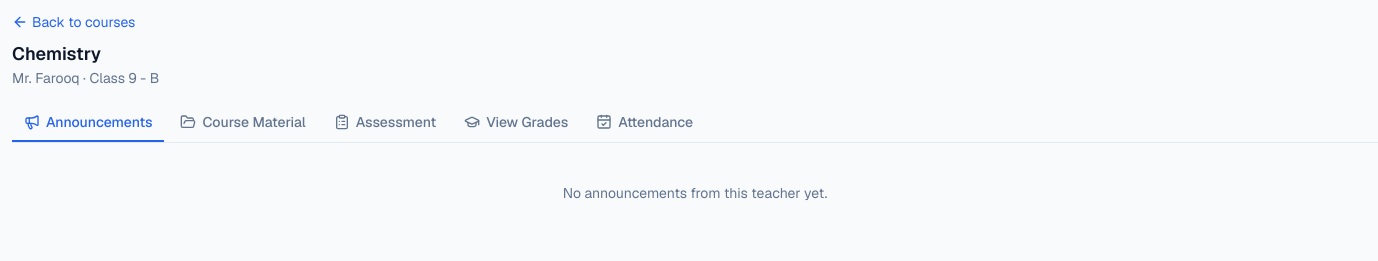
Scenario: PortalCourseDetailPage › switches to the Course Material tab and shows a download link
Click the button "Course Material": [243, 123] box [168,104,318,142]
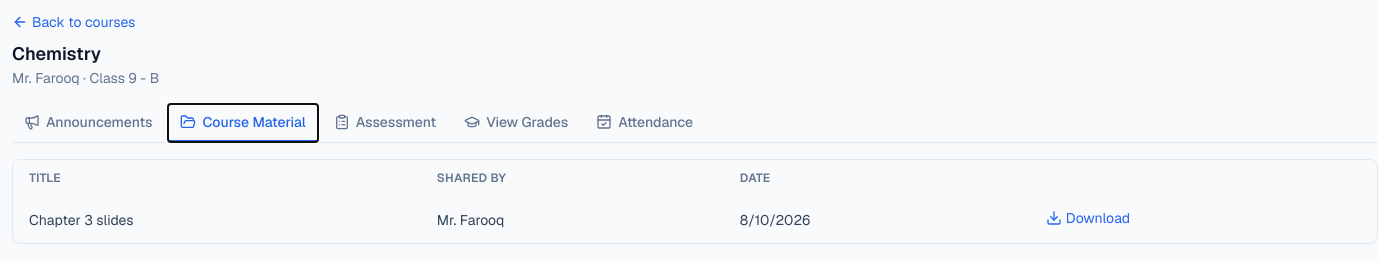
Now the text "Chapter 3 slides" is shown, box [13,196,421,243]
